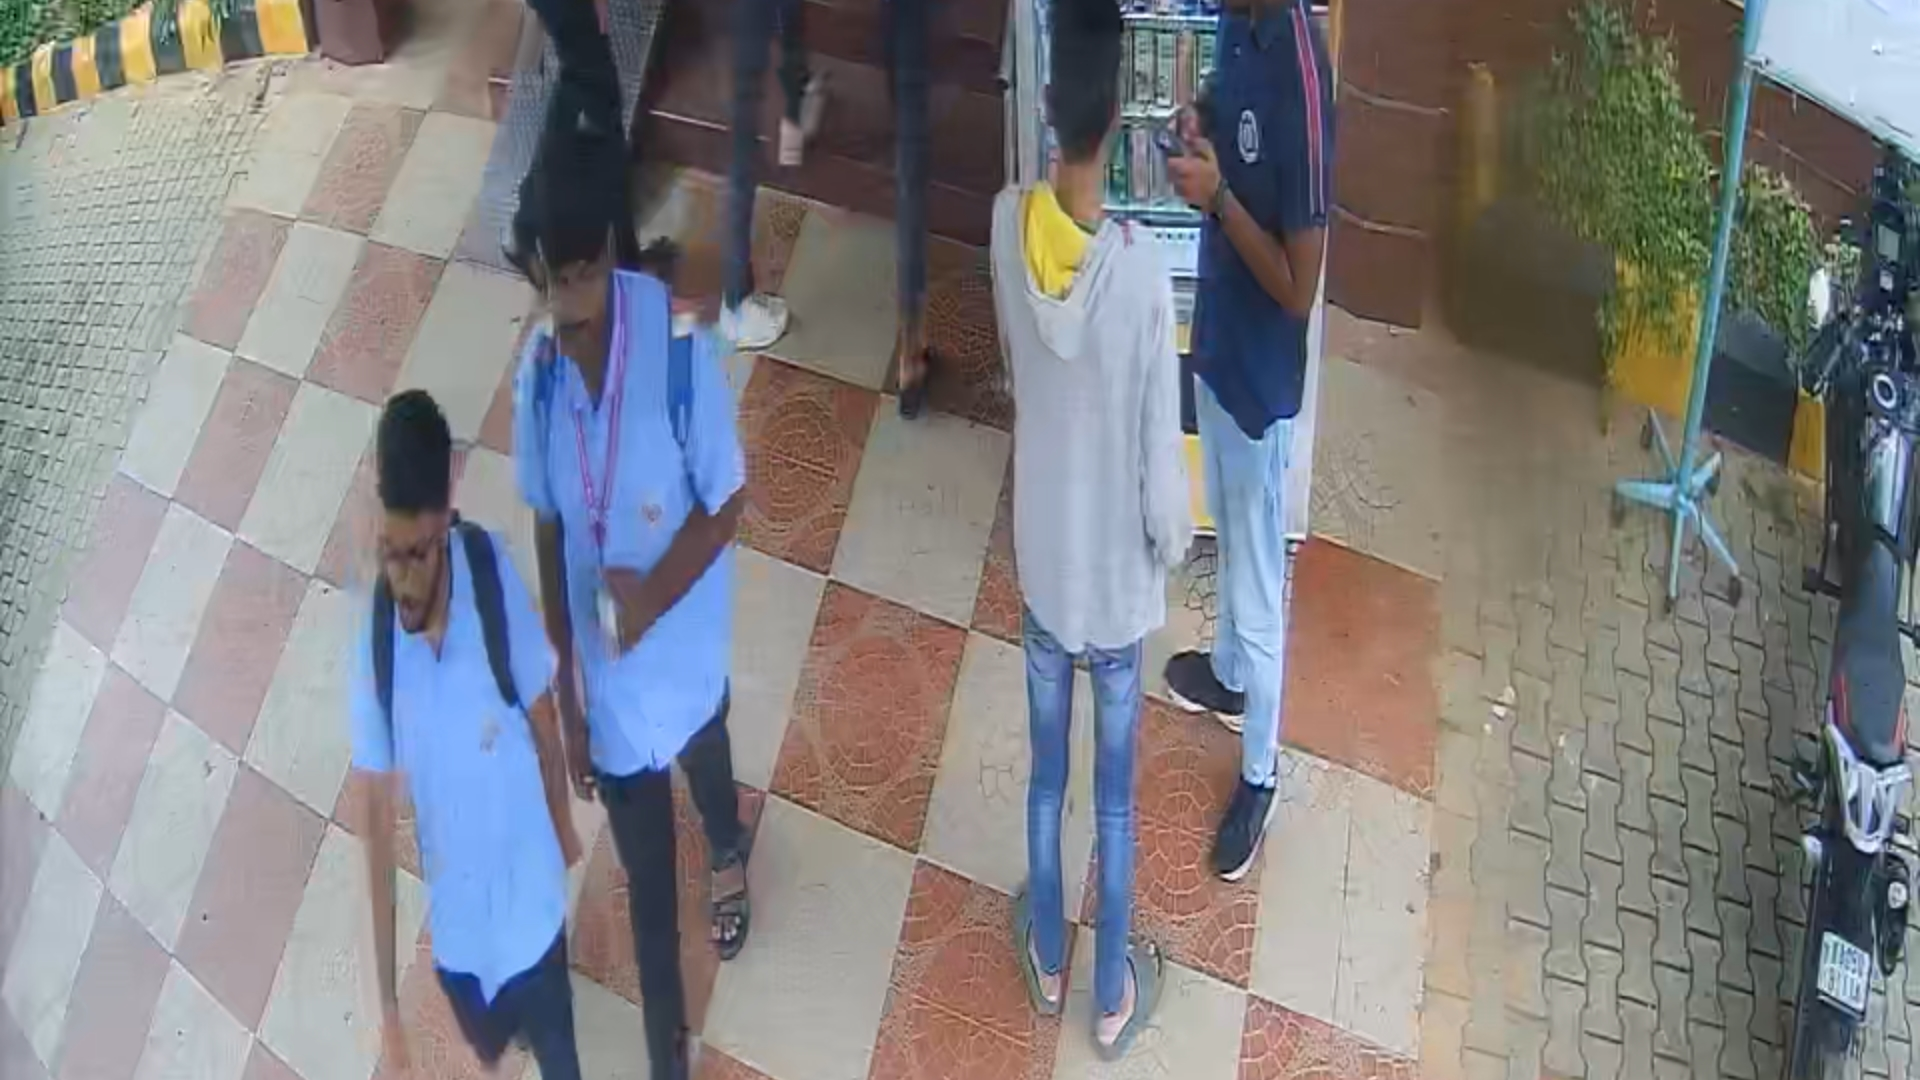intruder: (357, 378, 603, 1080)
not intruder: (533, 162, 774, 1069)
